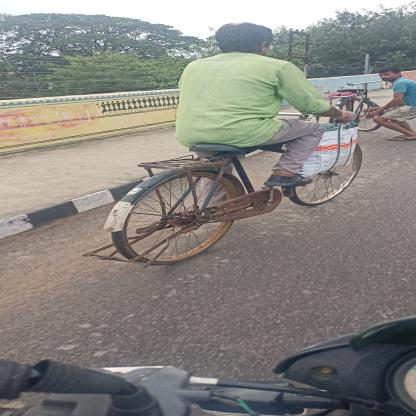bike: (62, 107, 378, 265), (315, 74, 349, 99)
